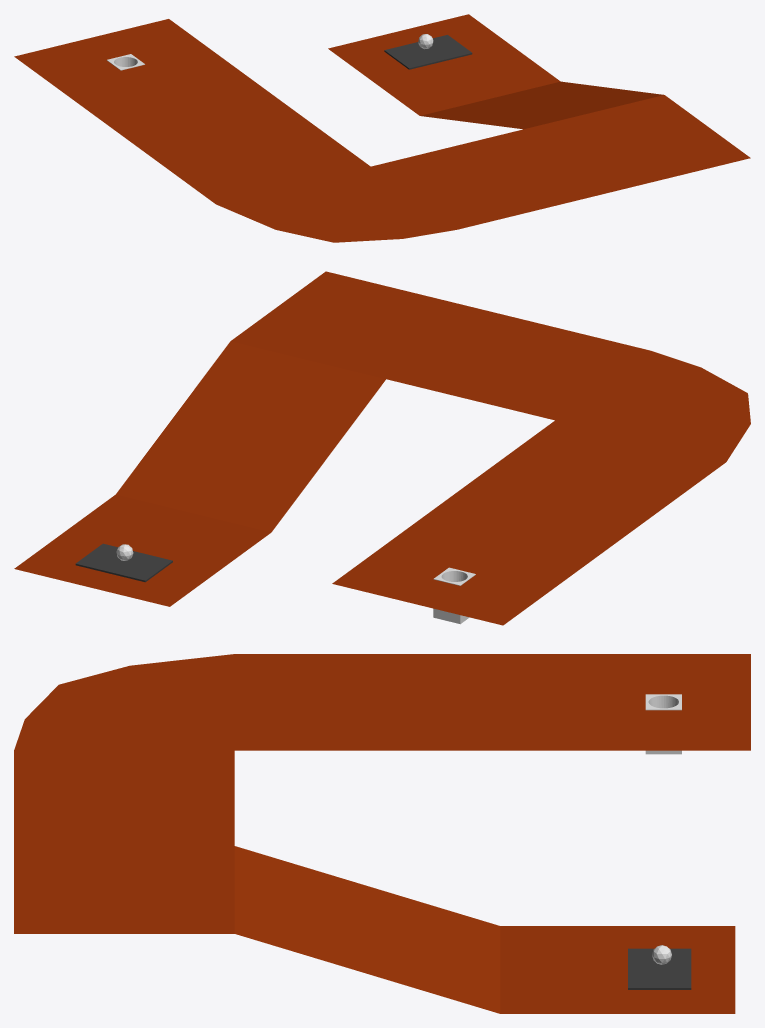
File: boilerplate_level_12.glb
3 renders of one model, top to bottom at view 1: azimuth 30°, elevation 25°; view 2: azimuth 150°, elevation 25°; view 3: azimuth 270°, elevation 25°, orthographic. The views are drawn at different scales.
Parts seen in each view (by area): view 1: Plane, Start; view 2: Plane, Start, Cup; view 3: Plane, Start, Cup.
Part boxes in pixels (x1=…): Plane: x1=14, y1=14, x2=750, y2=242; Start: x1=384, y1=35, x2=472, y2=69; Plane: x1=14, y1=271, x2=750, y2=625; Start: x1=75, y1=543, x2=172, y2=582; Cup: x1=433, y1=567, x2=475, y2=624; Plane: x1=14, y1=654, x2=750, y2=1013; Start: x1=628, y1=948, x2=691, y2=989; Cup: x1=645, y1=694, x2=681, y2=754.
Size of the model in its own units: 55.9 by 7.78 by 62.2.
